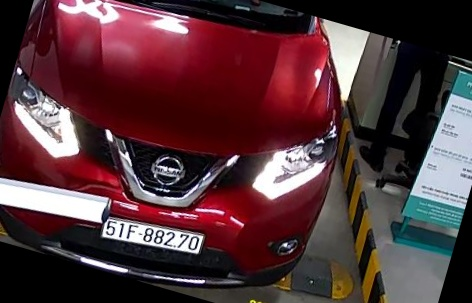plate: (97, 215, 212, 263)
